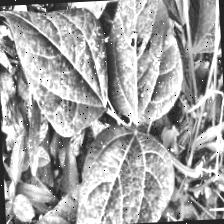Bean Rust: (4, 3, 109, 134), (65, 119, 181, 224), (107, 0, 192, 123)
